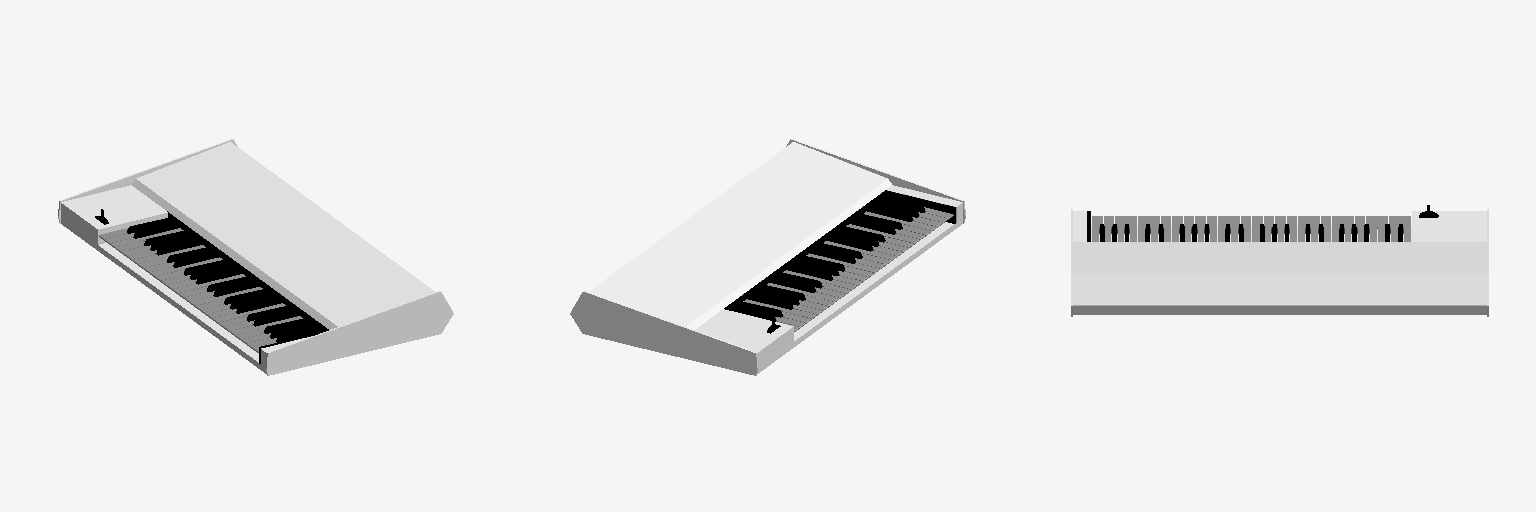
The picture shows the model from 3 angles: view 1: azimuth 30°, elevation 25°; view 2: azimuth 150°, elevation 25°; view 3: azimuth 270°, elevation 25°; orthographic projection.
Visible parts, largest first — view 1: cube134_cube134_auv, cube134_copy117_cube134_sep116_auv, 100_sep43_100_sep43_auv, 100_copy136_100_copy136_auv, cube134_sep116_cube134_sep116_auv, 100_sep41_DARK_GRAY_MATTE; view 2: cube134_cube134_auv, cube134_sep116_cube134_sep116_auv, 100_sep43_100_sep43_auv, 100_copy136_100_copy136_auv, cube134_copy117_cube134_sep116_auv, 100_sep41_DARK_GRAY_MATTE, 100_copy137_100_copy137_auv, 100_copy135_DARK_GRAY_MATTE; view 3: cube134_cube134_auv, 100_sep43_100_sep43_auv.
Boxes of the visible parts, x1=… form: cube134_cube134_auv: x1=132, y1=142, x2=434, y2=329; cube134_copy117_cube134_sep116_auv: x1=266, y1=291, x2=453, y2=375; 100_sep43_100_sep43_auv: x1=61, y1=185, x2=167, y2=244; 100_copy136_100_copy136_auv: x1=61, y1=218, x2=266, y2=373; cube134_sep116_cube134_sep116_auv: x1=58, y1=139, x2=237, y2=223; 100_sep41_DARK_GRAY_MATTE: x1=167, y1=211, x2=328, y2=331; cube134_cube134_auv: x1=589, y1=142, x2=891, y2=329; cube134_sep116_cube134_sep116_auv: x1=570, y1=291, x2=757, y2=375; 100_sep43_100_sep43_auv: x1=695, y1=309, x2=793, y2=367; 100_copy136_100_copy136_auv: x1=757, y1=219, x2=962, y2=373; cube134_copy117_cube134_sep116_auv: x1=786, y1=139, x2=965, y2=223; 100_sep41_DARK_GRAY_MATTE: x1=724, y1=191, x2=884, y2=310; 100_copy137_100_copy137_auv: x1=887, y1=185, x2=962, y2=222; 100_copy135_DARK_GRAY_MATTE: x1=884, y1=190, x2=955, y2=223; cube134_cube134_auv: x1=1073, y1=242, x2=1486, y2=314; 100_sep43_100_sep43_auv: x1=1412, y1=211, x2=1486, y2=241.
Bounding box in the file's own units: 2.99 × 0.65 × 5.76.